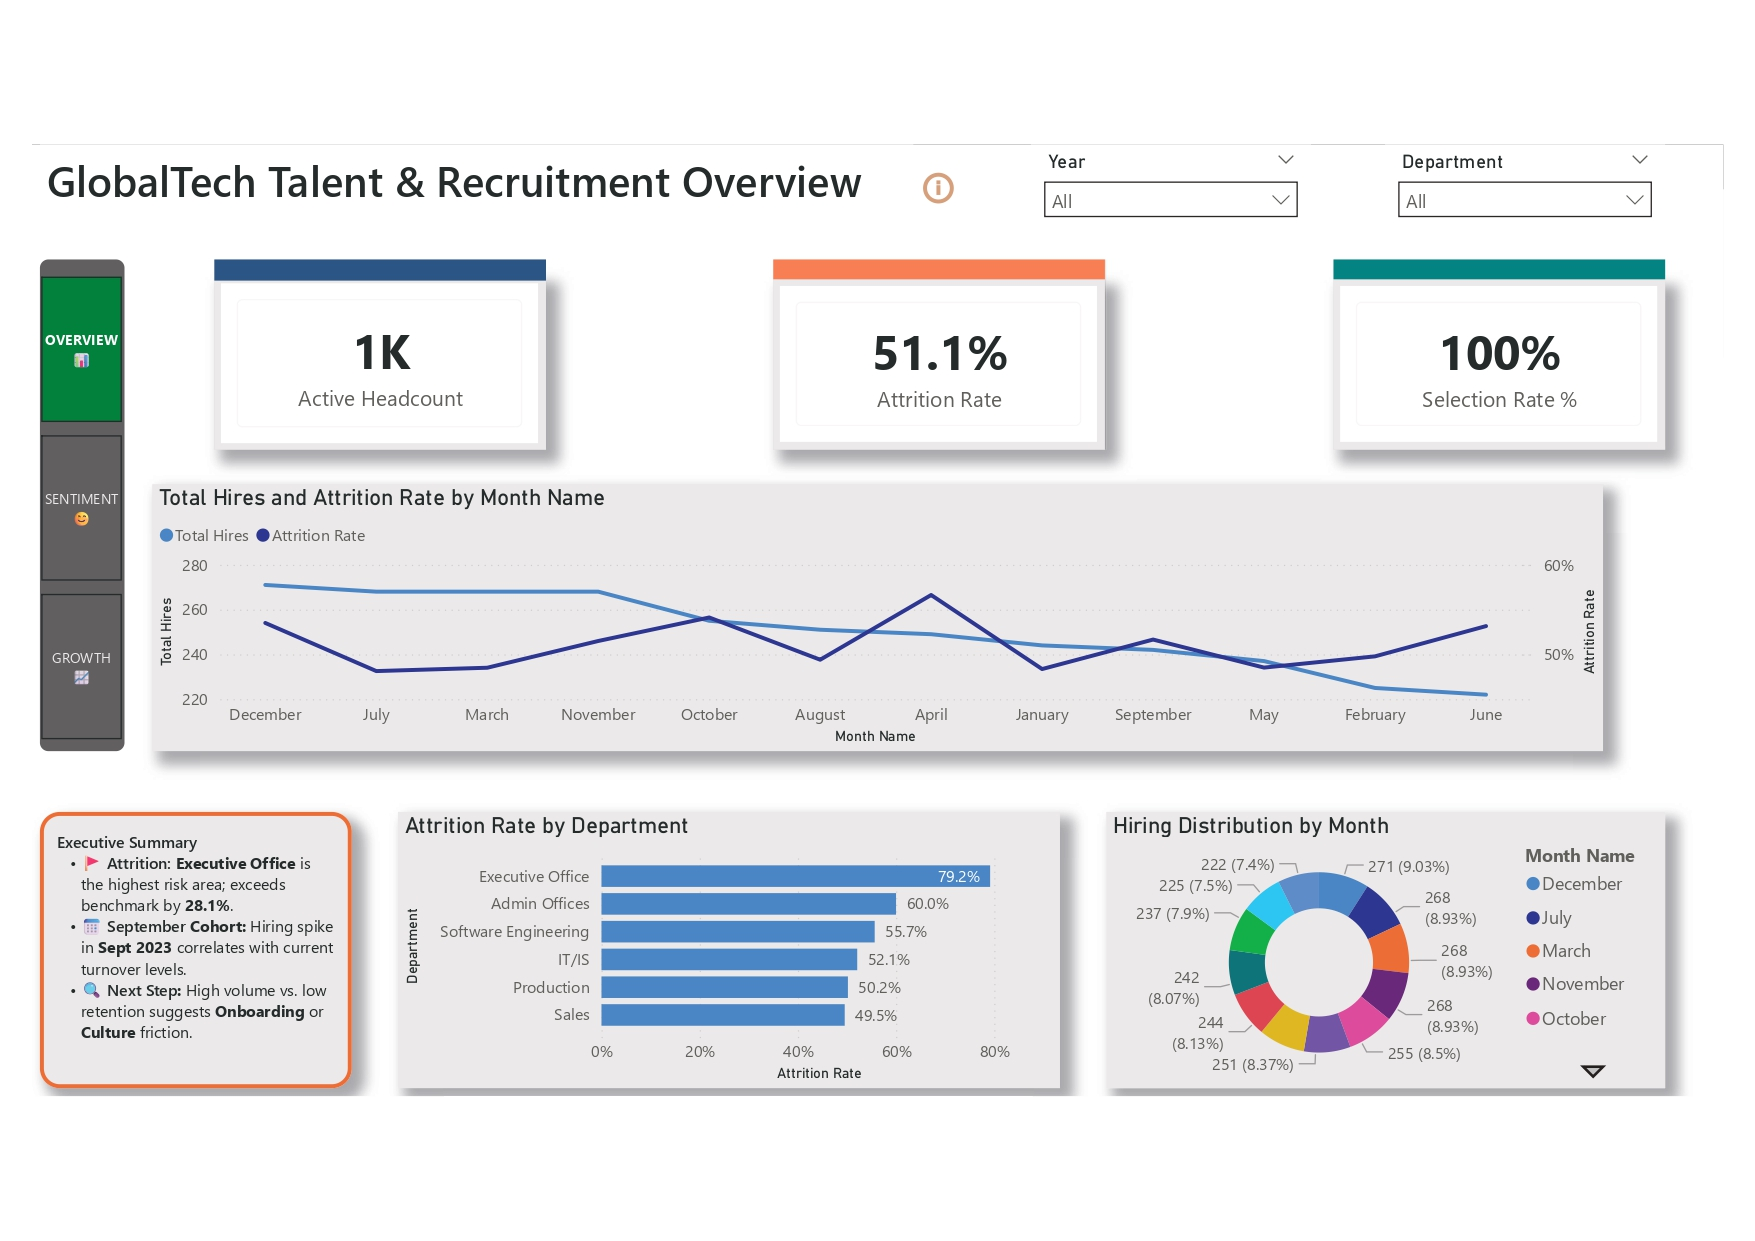

What the dashboard file says about the page in this screenshot:
{"tool":"powerbi","page":{"name":"OVERVIEW 📊","canvas":[1280,720],"ordinal":0},"visuals":[{"type":"slicer","fields":{"Values":["employee_data.Department Type"]},"box":[1024.3,0,211.7,75.6],"z":0},{"type":"cardVisual","fields":{"Data":["_Measures (2).Active Headcount"]},"box":[138,99.5,250.8,131],"z":0,"group":"g1"},{"type":"cardVisual","fields":{"Data":["_Measures (2).Attrition Rate"]},"box":[561.3,102.3,250.8,128.2],"z":1000,"group":"g2"},{"type":"clusteredBarChart","fields":{"Category":["employee_data.Department Type"],"Y":["_Measures (2).Attrition Rate"]},"box":[276.9,504.6,500.8,209.8],"z":1000},{"type":"cardVisual","fields":{"Data":["_Measures (2).Selection Rate %"]},"box":[984.6,102.3,250.8,128.2],"z":2000,"group":"g3"},{"type":"donutChart","title":"Hiring Distribution by Month","fields":{"Category":["Dim_Calendar.Month Name"],"Y":["CountNonNull(employee_data.Employee ID)"]},"box":[812.6,504.6,423.3,209.8],"z":2000},{"type":"textbox","box":[6,0,660.8,73.1],"z":3000},{"type":"slicer","fields":{"Values":["Dim_Calendar.Year"]},"box":[756.4,0,211.7,75.6],"z":4000},{"type":"group","id":"g1","title":"Group 1","box":[138,86.9,251.3,143.6],"z":5000},{"type":"group","id":"g2","title":"Group 2","box":[561.3,86.9,251.3,143.6],"z":6000},{"type":"group","id":"g3","title":"Group 3","box":[984.6,86.9,251.3,143.6],"z":7000},{"type":"shape","box":[138,86.9,250.8,15.8],"z":8000,"group":"g1"},{"type":"lineChart","fields":{"Y":["_Measures (2).Total Hires"],"Category":["Dim_Calendar.Month Name"],"Y2":["_Measures (2).Attrition Rate"]},"box":[91,257,1098,202.2],"z":8000},{"type":"shape","box":[561.3,86.9,250.8,15.4],"z":8001,"group":"g2"},{"type":"shape","box":[984.6,86.9,250.8,15.4],"z":8002,"group":"g3"},{"type":"shape","box":[6,86.5,64.1,372.9],"z":9000},{"type":"pageNavigator","box":[7.5,99.9,61.2,350.6],"z":10000},{"type":"textbox","box":[5.7,504.6,236.2,209.8],"z":11000},{"type":"actionButton","box":[667.9,17.4,36.3,31.6],"z":11001}]}

Visuals, with their boxes on the page's 1280x720 design canvas (x1, y1, x2, y2). These are canvas units, not pixel positions in the 1755x1241 screenshot, which may show the page scaled, cropped or inside an application window:
slicer - employee_data.Department Type: <bbox>1024, 0, 1236, 76</bbox>
cardVisual - _Measures (2).Active Headcount: <bbox>138, 100, 389, 230</bbox>
cardVisual - _Measures (2).Attrition Rate: <bbox>561, 102, 812, 230</bbox>
clusteredBarChart - employee_data.Department Type x _Measures (2).Attrition Rate: <bbox>277, 505, 778, 714</bbox>
cardVisual - _Measures (2).Selection Rate %: <bbox>985, 102, 1235, 230</bbox>
"Hiring Distribution by Month" donutChart: <bbox>813, 505, 1236, 714</bbox>
textbox: <bbox>6, 0, 667, 73</bbox>
slicer - Dim_Calendar.Year: <bbox>756, 0, 968, 76</bbox>
"Group 1" group: <bbox>138, 87, 389, 230</bbox>
"Group 2" group: <bbox>561, 87, 813, 230</bbox>
"Group 3" group: <bbox>985, 87, 1236, 230</bbox>
shape: <bbox>138, 87, 389, 103</bbox>
lineChart - _Measures (2).Total Hires x Dim_Calendar.Month Name: <bbox>91, 257, 1189, 459</bbox>
shape: <bbox>561, 87, 812, 102</bbox>
shape: <bbox>985, 87, 1235, 102</bbox>
shape: <bbox>6, 86, 70, 459</bbox>
pageNavigator: <bbox>8, 100, 69, 450</bbox>
textbox: <bbox>6, 505, 242, 714</bbox>
actionButton: <bbox>668, 17, 704, 49</bbox>
